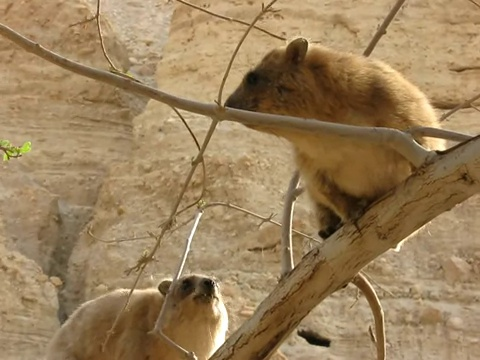Rock Hyrex: (225, 34, 449, 240), (41, 275, 229, 360)
